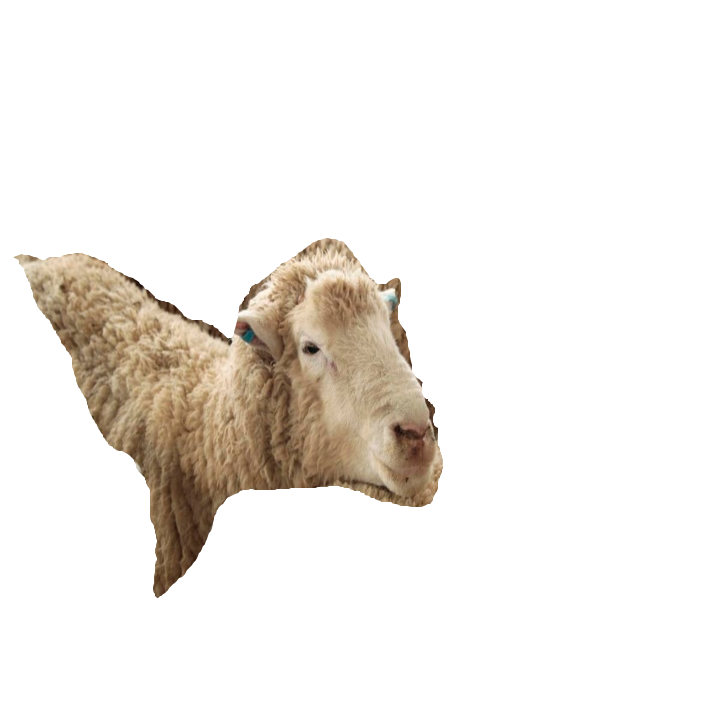Sheep: (0, 236, 448, 600)
